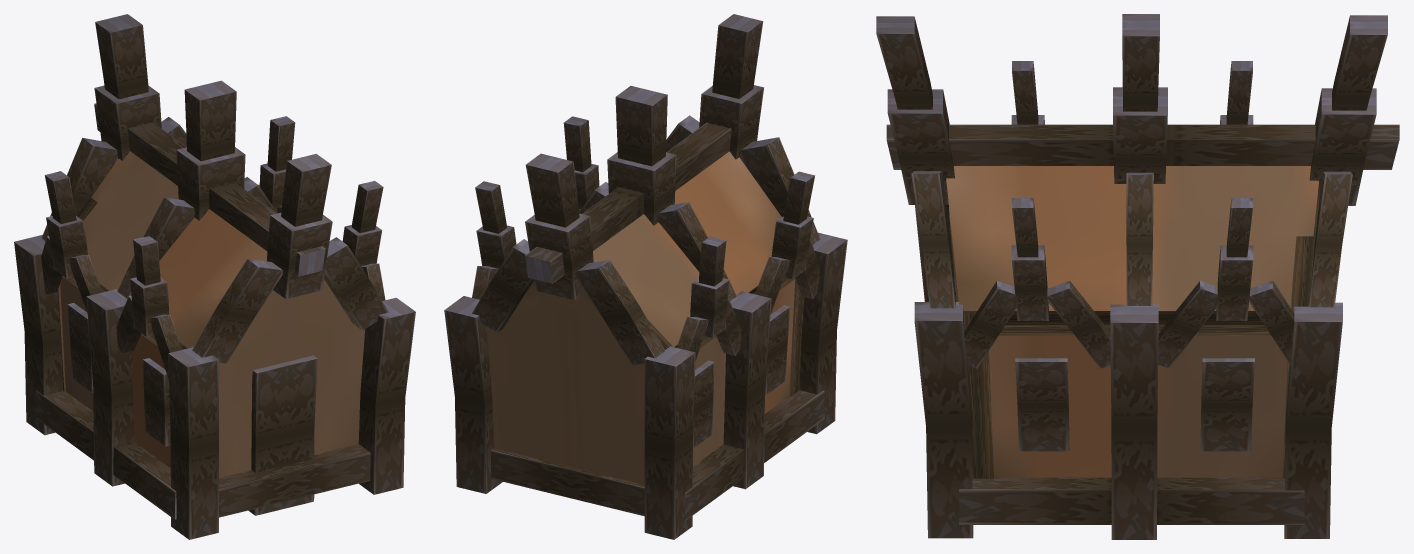
The model's file is tile_house.fbx.
The picture shows the model from 3 angles, left to right: view 1: azimuth 30°, elevation 25°; view 2: azimuth 150°, elevation 25°; view 3: azimuth 270°, elevation 25°; orthographic projection. The views are drawn at different scales.
Visible parts, largest first — view 1: Cylinder002; view 2: Cylinder002; view 3: Cylinder002.
Boxes of the visible parts, bbox=[...] form: Cylinder002: bbox=[14, 14, 415, 539]; Cylinder002: bbox=[444, 14, 847, 539]; Cylinder002: bbox=[876, 14, 1399, 539].
Bounding box in the file's own units: 2.26 × 3.41 × 3.26.
2 materials, 2 textured.
